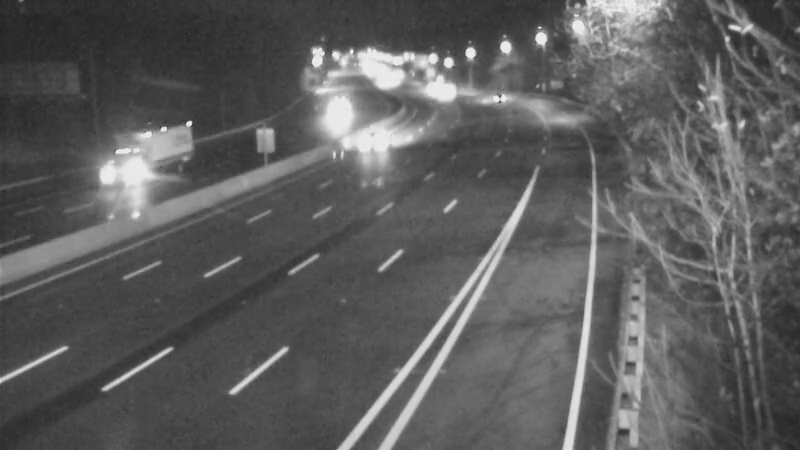vehicle: (74, 134, 154, 214), (405, 66, 455, 116), (475, 75, 525, 125), (354, 111, 404, 161), (308, 86, 358, 136)
